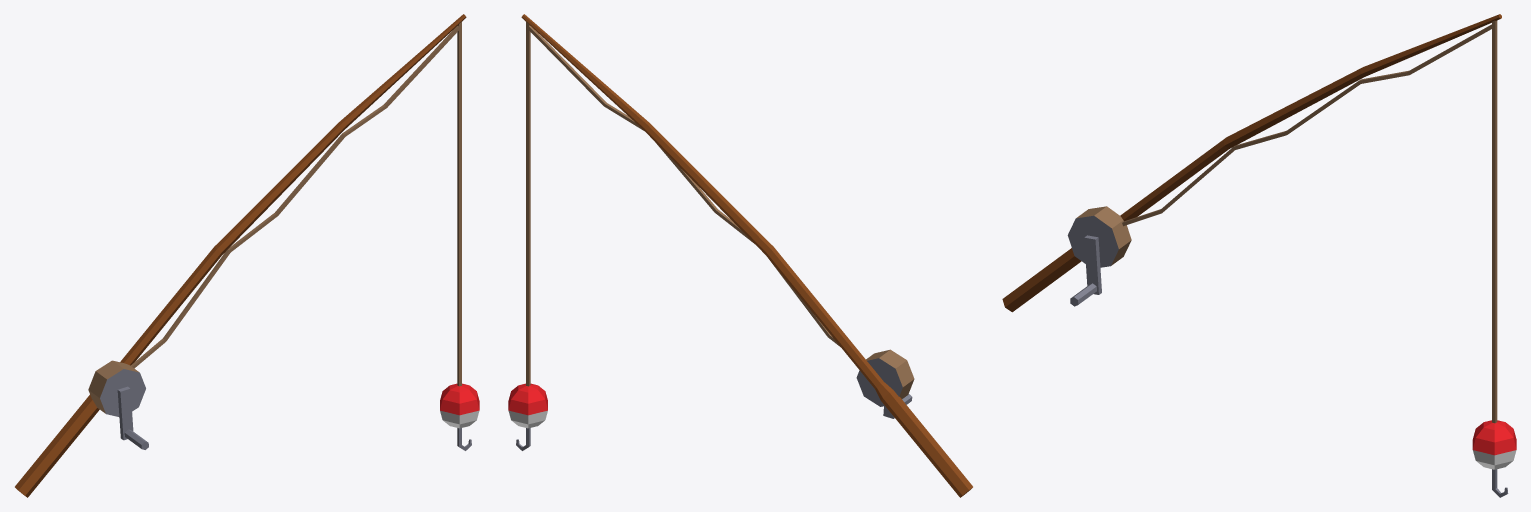
The model's file is FishingRod.fbx.
3 views of the same model, side by side, from view 1: azimuth 30°, elevation 25°; view 2: azimuth 150°, elevation 25°; view 3: azimuth 330°, elevation 25° (orthographic). The views are drawn at different scales.
Visible parts, largest first — view 1: FishingRod; view 2: FishingRod; view 3: FishingRod.
Boxes of the visible parts, x1=… form: FishingRod: x1=15, y1=14, x2=479, y2=497; FishingRod: x1=508, y1=14, x2=972, y2=497; FishingRod: x1=1002, y1=14, x2=1516, y2=497.
Size of the model in its own units: 1.88 by 1.69 by 0.3007.
